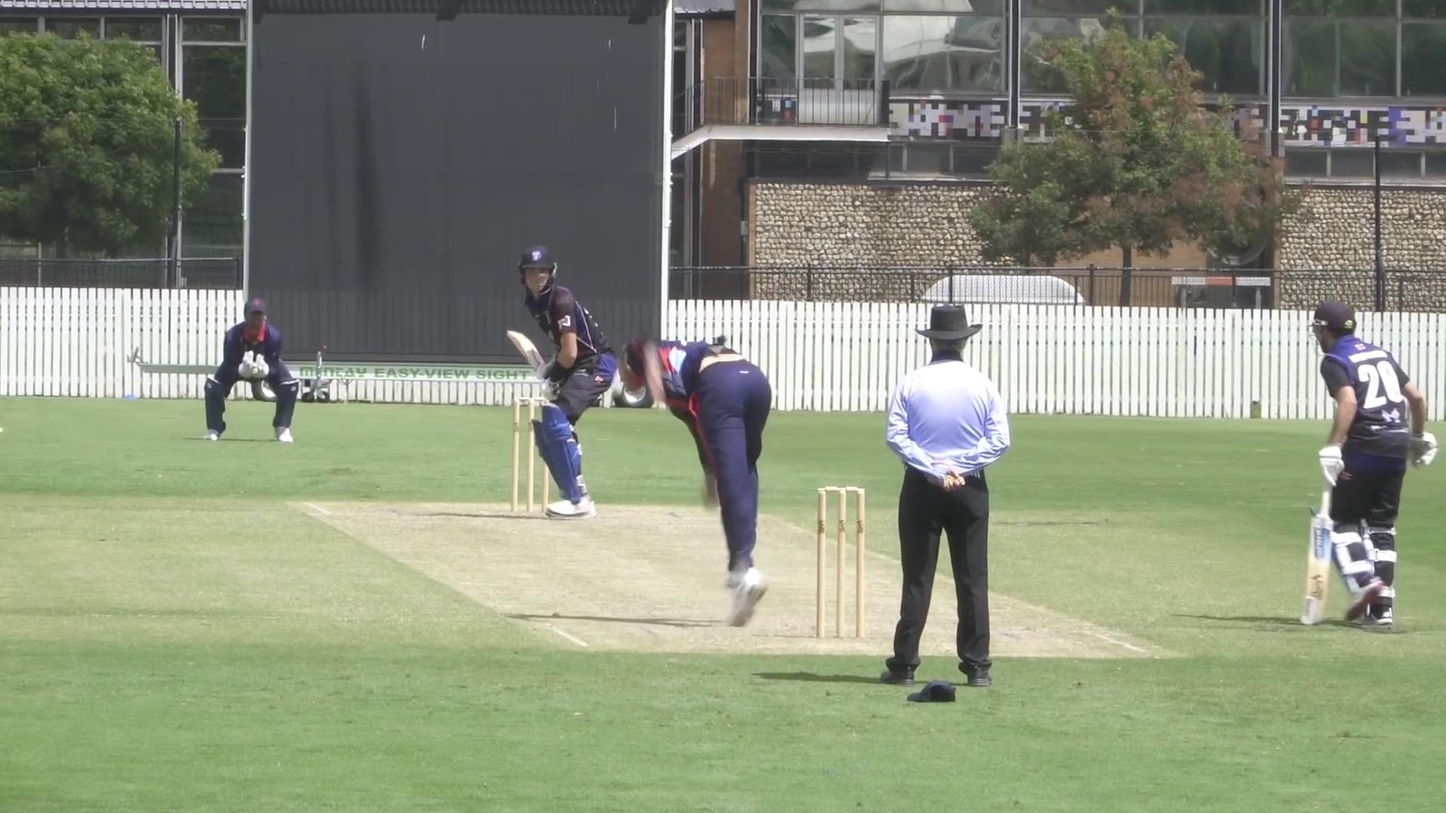ball: (606, 375, 627, 397)
